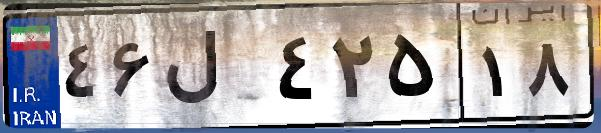1: (475, 38, 525, 113)
2: (330, 28, 385, 110)
4: (270, 28, 330, 110), (57, 26, 110, 100)
5: (385, 28, 445, 110)
6: (110, 28, 158, 98)
8: (525, 38, 570, 115)
ل: (158, 20, 270, 120)
